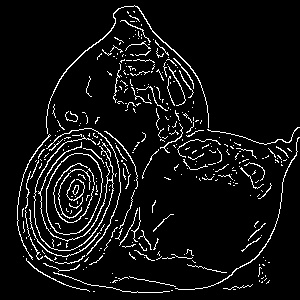red_onion: (32, 1, 220, 179), (136, 118, 291, 280), (3, 126, 138, 284)
